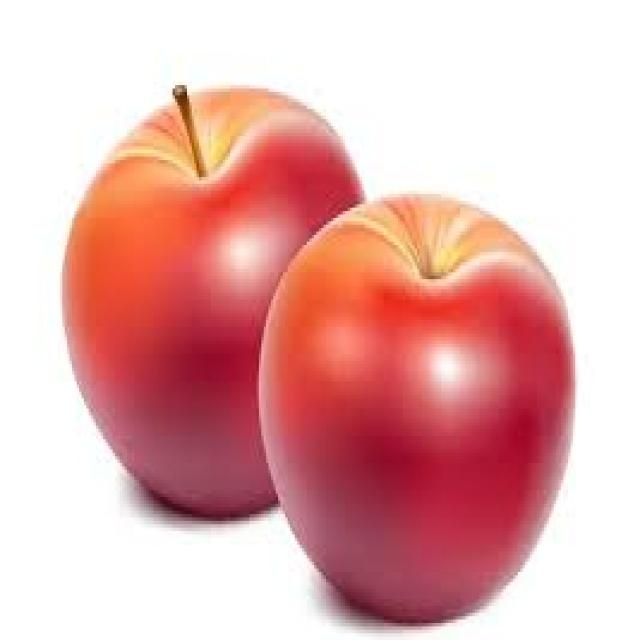agrume: (59, 67, 382, 596), (259, 156, 590, 624)
